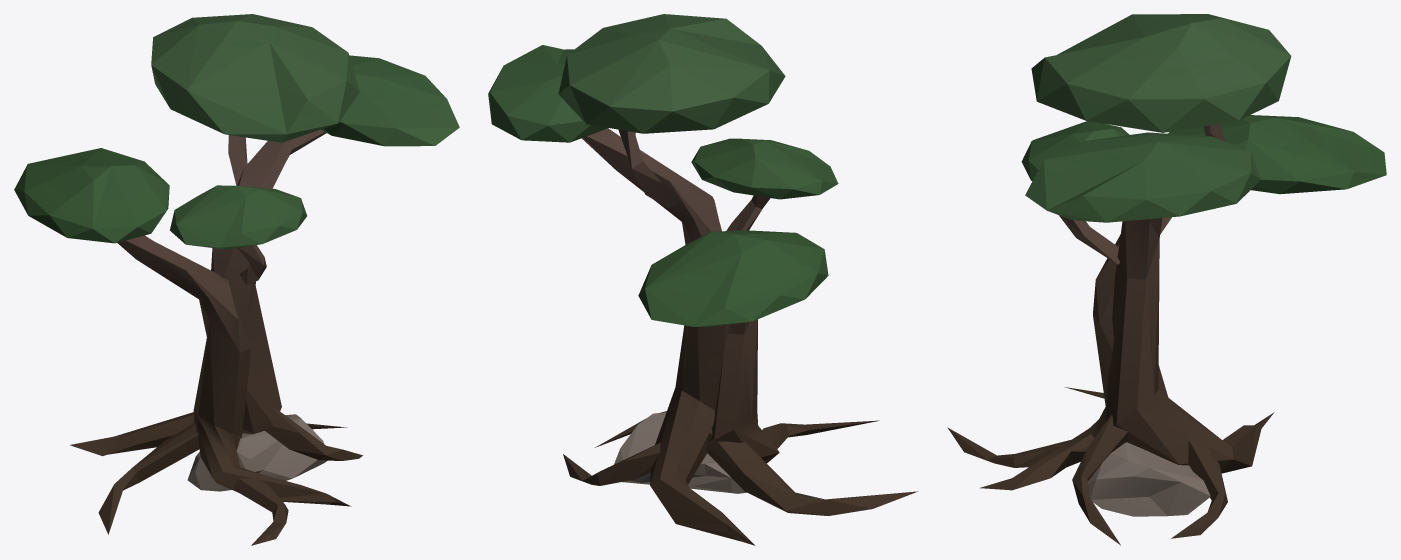
File: Tree07.FBX
The picture shows the model from 3 angles, left to right: view 1: azimuth 30°, elevation 25°; view 2: azimuth 150°, elevation 25°; view 3: azimuth 270°, elevation 25°; orthographic projection. The views are drawn at different scales.
Parts seen in each view (by area): view 1: Tree_06; view 2: Tree_06; view 3: Tree_06.
Boxes of the visible parts, box(x1,y1,x2,y2) form: Tree_06: box(14, 14, 459, 545); Tree_06: box(488, 14, 918, 545); Tree_06: box(947, 14, 1386, 545).
Bounding box in the file's own units: 1436 × 1666 × 1389.
